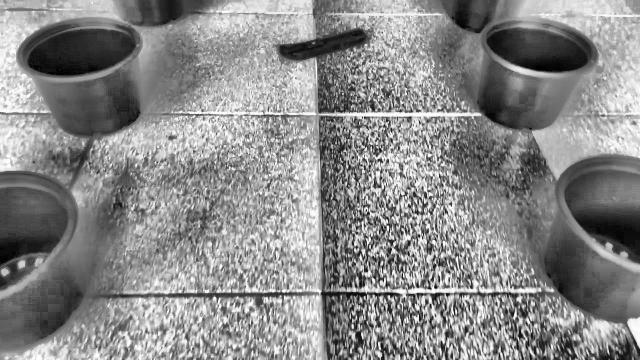pot: (16, 18, 144, 136), (476, 18, 598, 130)
